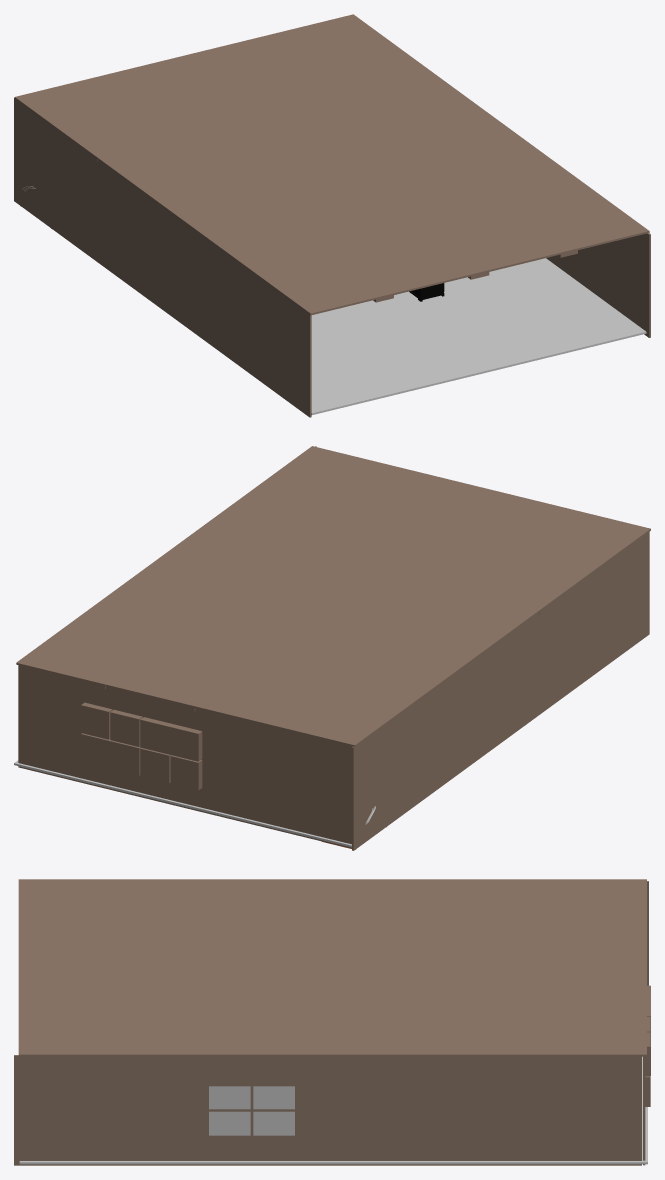
The model's file is room.obj.
The picture shows the model from 3 angles, top to bottom: view 1: azimuth 30°, elevation 25°; view 2: azimuth 150°, elevation 25°; view 3: azimuth 270°, elevation 25°; orthographic projection. The views are drawn at different scales.
Parts seen in each view (by area): view 1: Cube.004, Cube.002, Cube, Cube.003; view 2: Cube.004, Cube.001, Cube.002, Cube; view 3: Cube.004, Cube.003, Cube, Cube.001.
Part boxes in pixels (x1,y1,x2,y2): Cube.004: [14, 14, 649, 315]; Cube.002: [14, 97, 311, 417]; Cube: [311, 258, 646, 414]; Cube.003: [546, 232, 650, 337]; Cube.004: [16, 446, 650, 746]; Cube.001: [18, 665, 351, 848]; Cube.002: [352, 532, 649, 850]; Cube: [14, 760, 351, 847]; Cube.004: [18, 879, 646, 1060]; Cube.003: [14, 1055, 641, 1165]; Cube: [19, 1056, 647, 1164]; Cube.001: [643, 985, 650, 1165].
Size of the model in its own units: 10.99 by 3.29 by 16.68.
